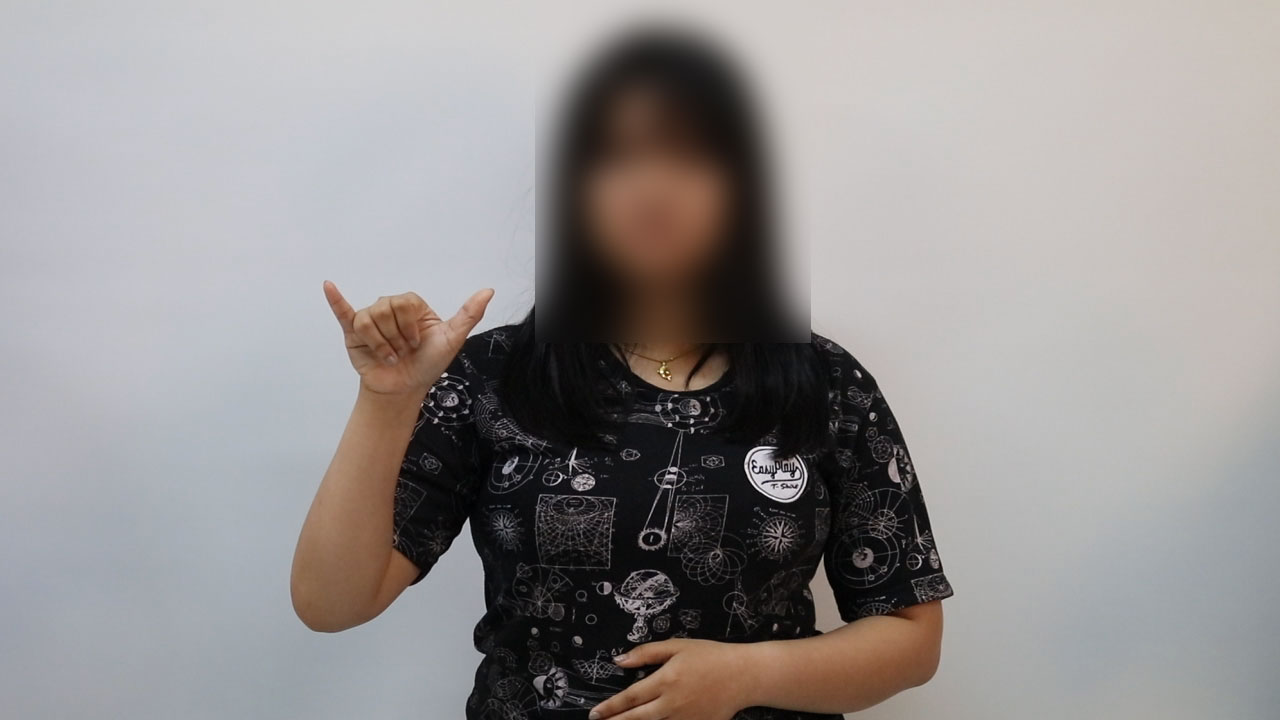yor: (311, 267, 508, 412)
